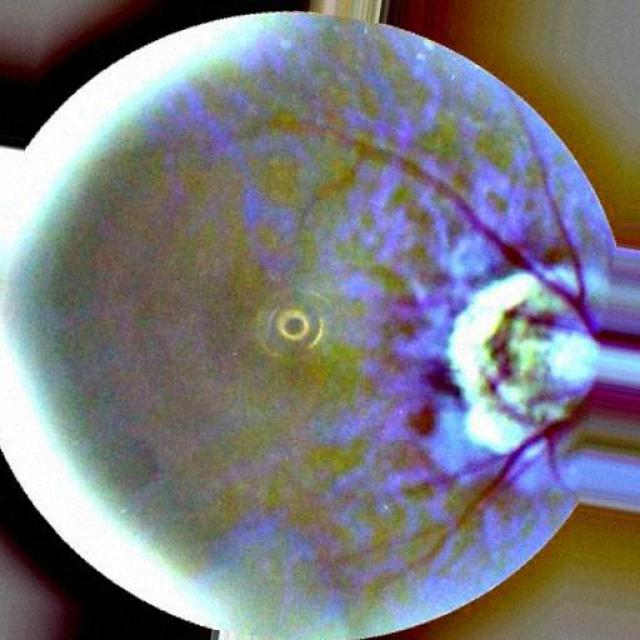Nerves: (149, 106, 595, 347), (384, 391, 586, 577)
Optic Disk: (475, 278, 596, 422)
